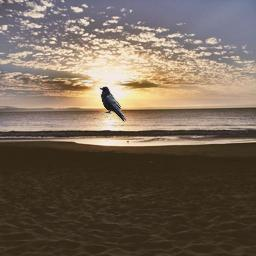Crow: (99, 86, 127, 122)
